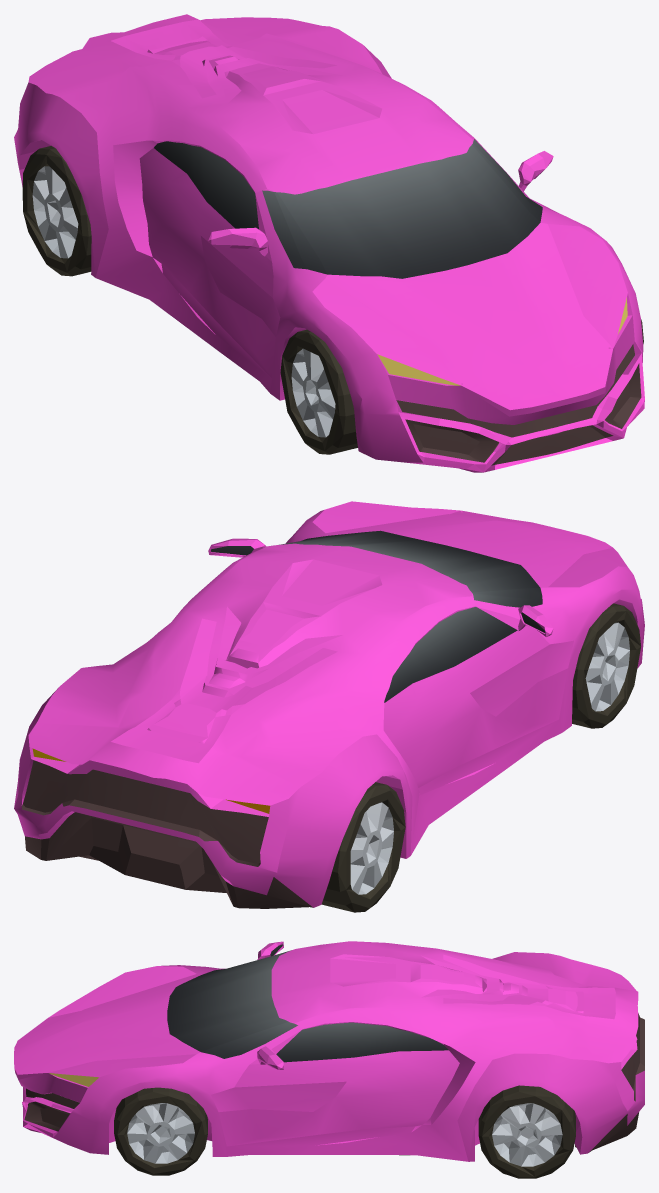
File: car.fbx
3 renders of one model, top to bottom at view 1: azimuth 30°, elevation 25°; view 2: azimuth 150°, elevation 25°; view 3: azimuth 270°, elevation 25°, orthographic. The views are drawn at different scales.
Parts seen in each view (by area): view 1: car; view 2: car; view 3: car.
Part boxes in pixels (x1,y1,x2,y2): car: (14,14,644,472); car: (14,501,644,912); car: (14,941,644,1178).
Bounding box in the file's own units: 170 × 97.72 × 367.
1 material, 1 textured.
